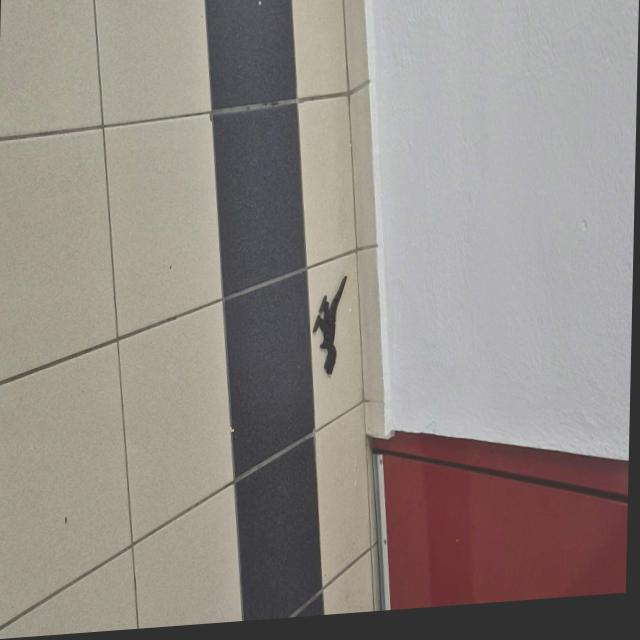dino: (311, 275, 347, 377)
